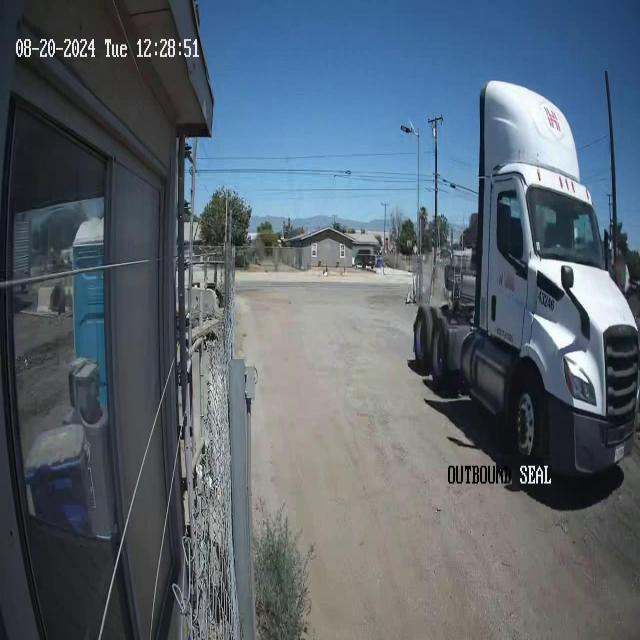TRUCK_IN: (412, 78, 639, 484)
